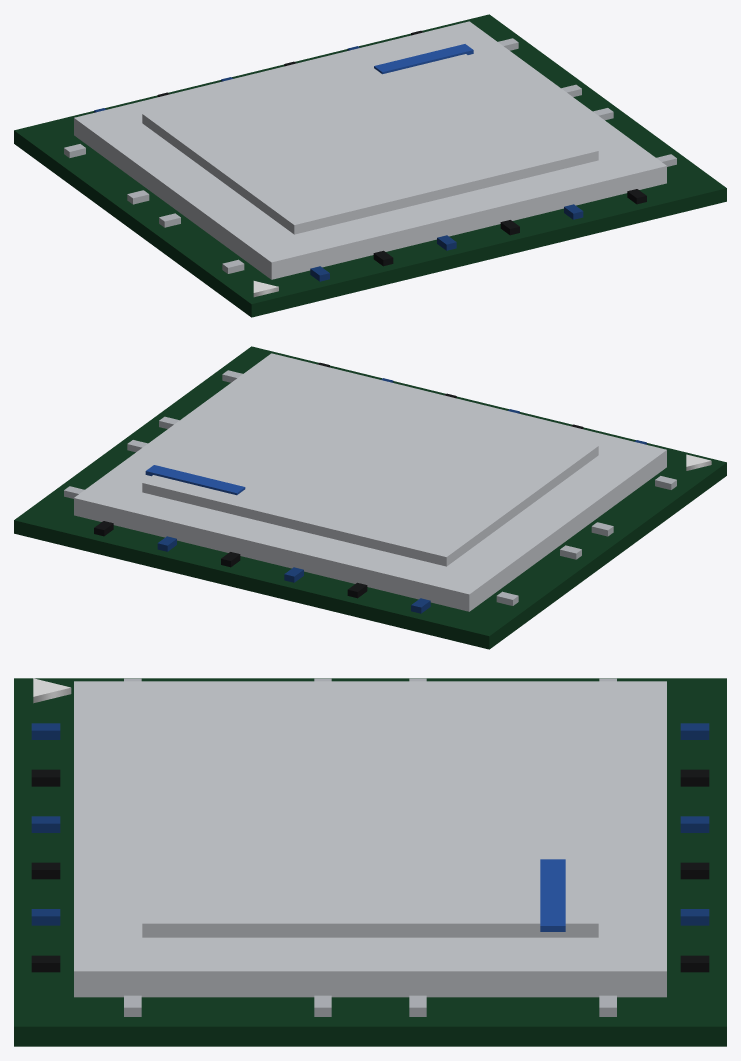
The model's file is hw_cpu_xeon_32c.glb.
3 views of the same model, one above another, from view 1: azimuth 30°, elevation 25°; view 2: azimuth 150°, elevation 25°; view 3: azimuth 270°, elevation 25° (orthographic). The views are drawn at different scales.
Parts seen in each view (by area): view 1: Body; view 2: Body; view 3: Body.
Part boxes in pixels (bbox=[...]): Body: bbox=[14, 14, 726, 317]; Body: bbox=[14, 346, 726, 649]; Body: bbox=[14, 678, 726, 1046].
Bounding box in the file's own units: 0.052 × 0.00467 × 0.045.
